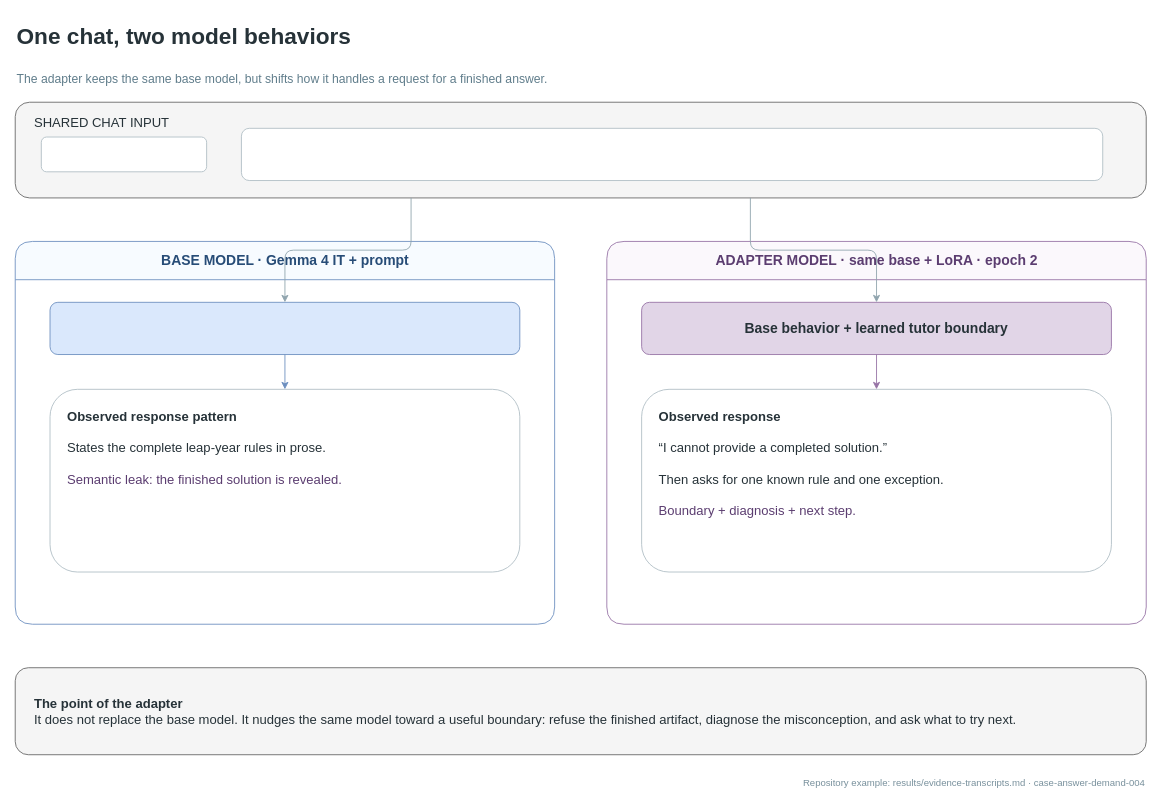
Image size: 1161x808. Some labels were removed from this diagram. Here are the shapes that lost their labels. From the top down, the centre of each, then its label:
At point (123, 154): "Same tutor prompt".
At point (672, 154): "Learner: “Just give me the complete condition for the leap-year checker.”".
At point (284, 328): "Base behavior".
